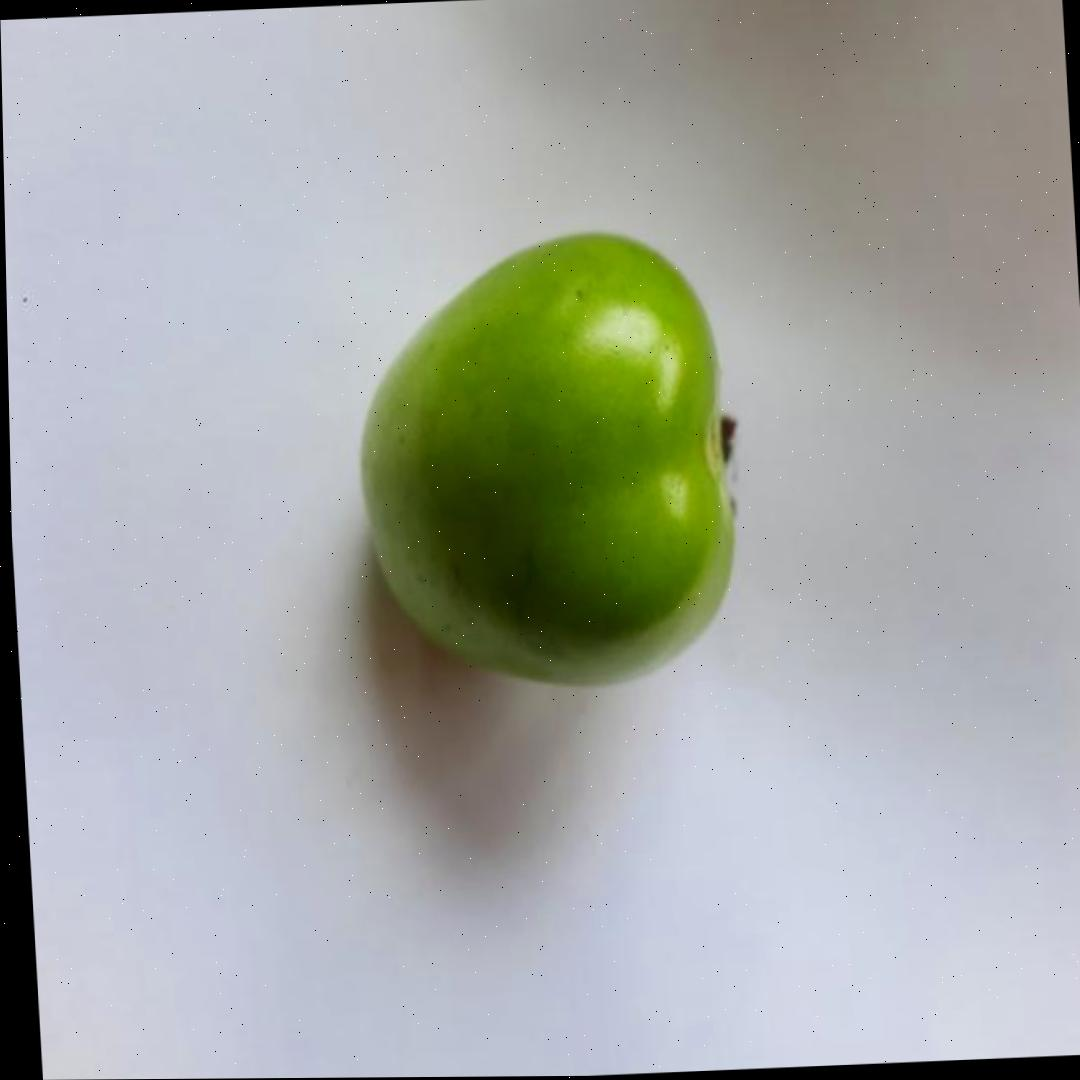mentah: (344, 223, 757, 703)
